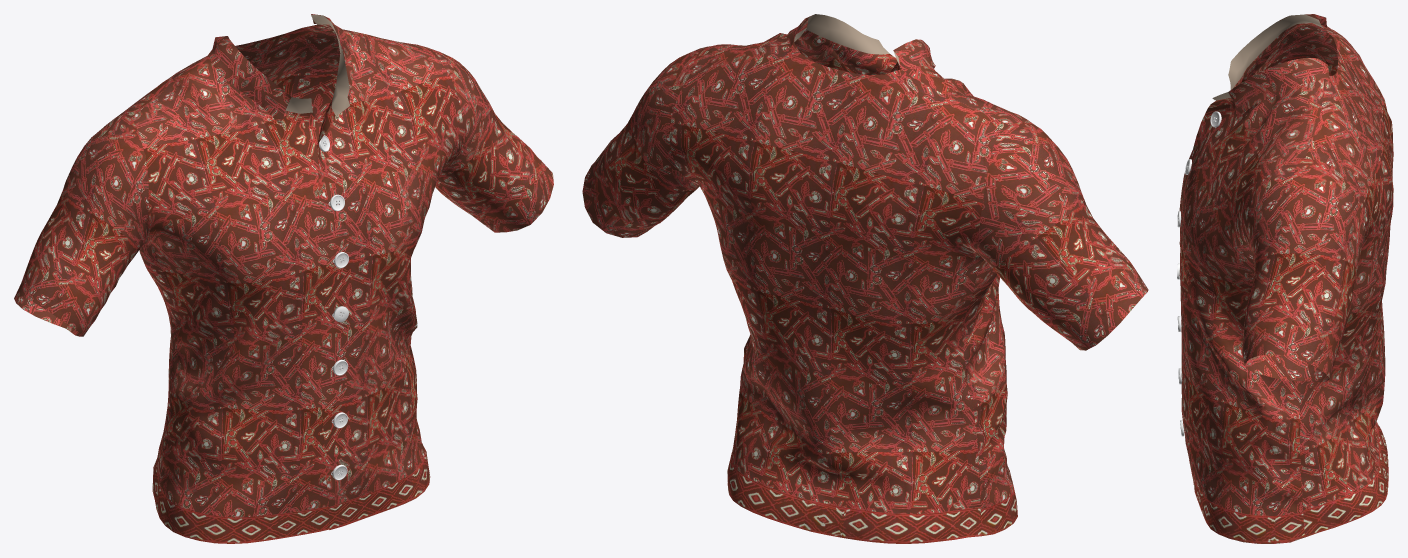
File: Baju_Pendek.fbx
3 renders of one model, left to right at view 1: azimuth 30°, elevation 25°; view 2: azimuth 150°, elevation 25°; view 3: azimuth 270°, elevation 25°, orthographic. The views are drawn at different scales.
Visible parts, largest first — view 1: Baju_Pendek.001; view 2: Baju_Pendek.001; view 3: Baju_Pendek.001.
Boxes of the visible parts, left/top/right/bottom form: Baju_Pendek.001: left=14, top=14, right=553, bottom=543; Baju_Pendek.001: left=582, top=14, right=1148, bottom=543; Baju_Pendek.001: left=1177, top=14, right=1393, bottom=543.
Bounding box in the file's own units: 735 × 620 × 269.
Materials: 9 (7 with a texture image).
